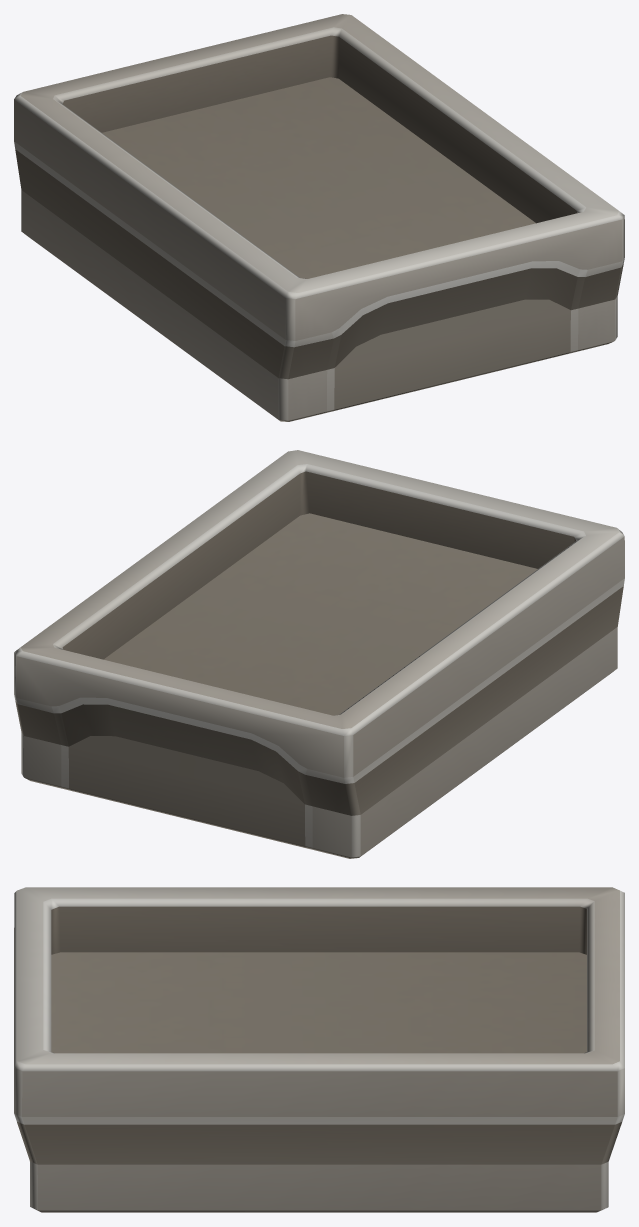
File: appartment_type1_roof_type1_x3.fbx
3 views of the same model, one above another, from view 1: azimuth 30°, elevation 25°; view 2: azimuth 150°, elevation 25°; view 3: azimuth 270°, elevation 25° (orthographic). The views are drawn at different scales.
Visible parts, largest first — view 1: appartment_type1_roof_type1_x3; view 2: appartment_type1_roof_type1_x3; view 3: appartment_type1_roof_type1_x3.
Part boxes in pixels (box(x1,y1,x2,y2)): appartment_type1_roof_type1_x3: box(14, 14, 624, 421); appartment_type1_roof_type1_x3: box(14, 450, 624, 858); appartment_type1_roof_type1_x3: box(14, 887, 624, 1212).
Size of the model in its own units: 610 by 232 by 867.
